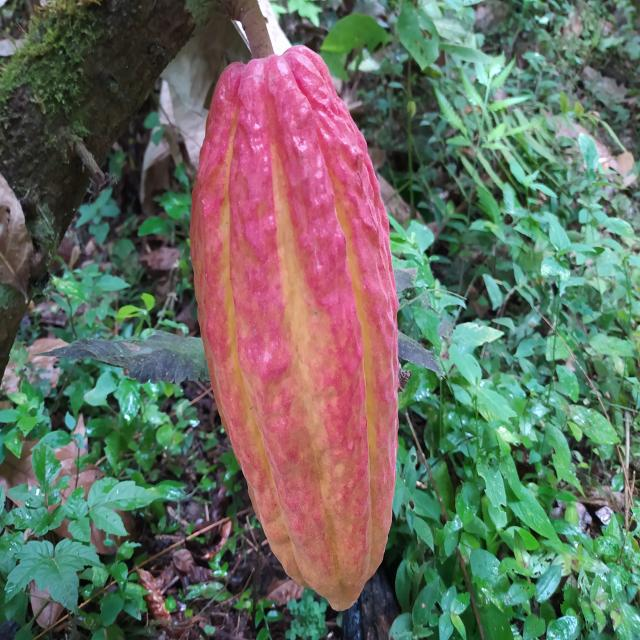Sana: (190, 44, 400, 614)
